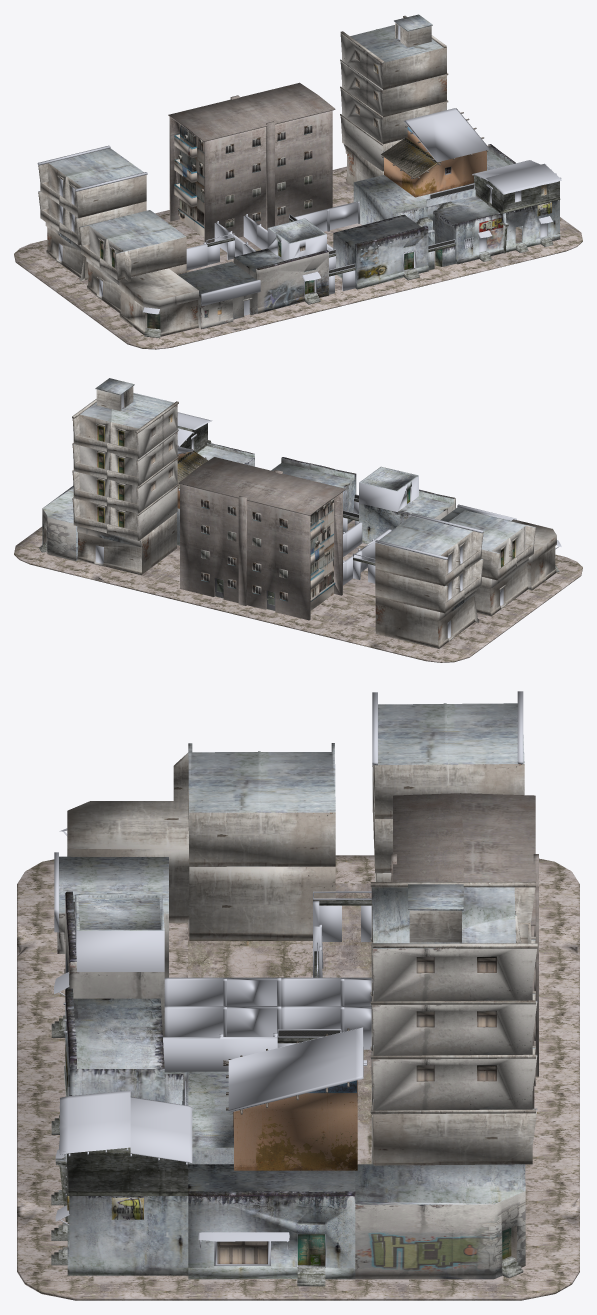
Rendered from CityBlockA.fbx.
3 renders of one model, top to bottom at view 1: azimuth 30°, elevation 25°; view 2: azimuth 150°, elevation 25°; view 3: azimuth 270°, elevation 25°, orthographic. The views are drawn at different scales.
Parts seen in each view (by area): view 1: CityBlockA; view 2: CityBlockA; view 3: CityBlockA.
Boxes of the visible parts, x1,y1,x2,y2 form: CityBlockA: [14, 14, 582, 349]; CityBlockA: [14, 378, 582, 662]; CityBlockA: [17, 691, 579, 1300].
Size of the model in its own units: 2028 by 700 by 1089.
